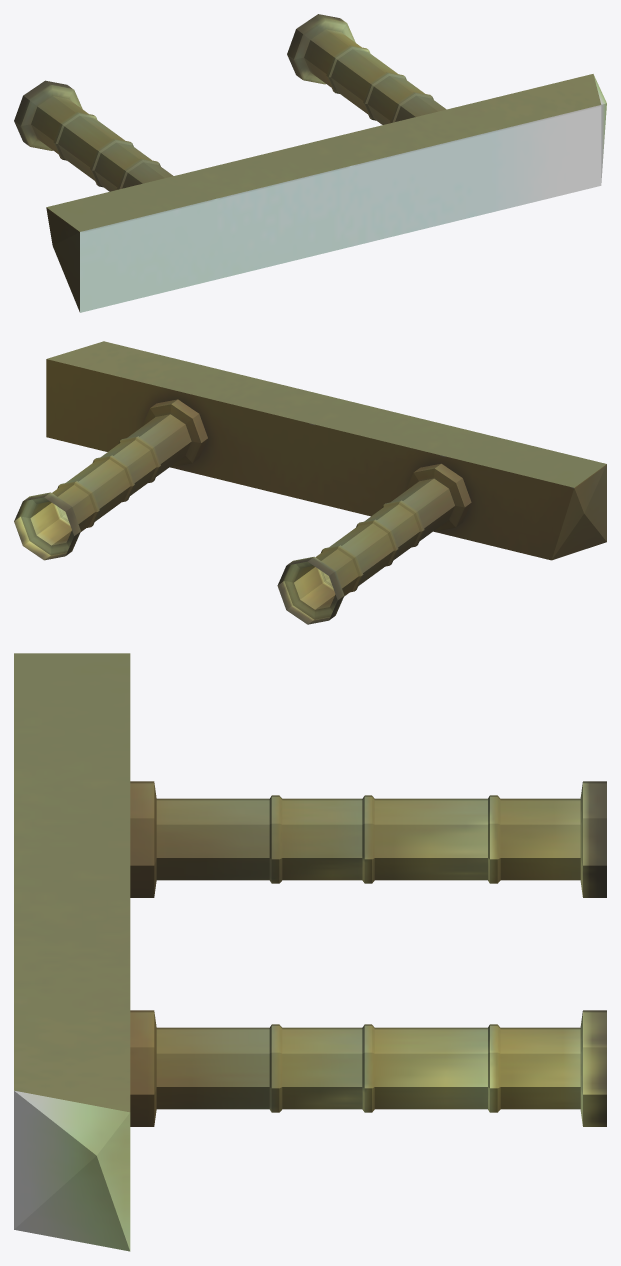
Rendered from pillar_lightmap.obj.
3 views of the same model, one above another, from view 1: azimuth 30°, elevation 25°; view 2: azimuth 150°, elevation 25°; view 3: azimuth 270°, elevation 25° (orthographic). The views are drawn at different scales.
Visible parts, largest first — view 1: pillar; view 2: pillar; view 3: pillar.
Part boxes in pixels (x1,y1,x2,y2): pillar: (14, 14, 606, 312); pillar: (14, 341, 606, 624); pillar: (14, 653, 606, 1251).
Size of the model in its own units: 4537 by 635 by 2451.
1 material, 1 textured.
